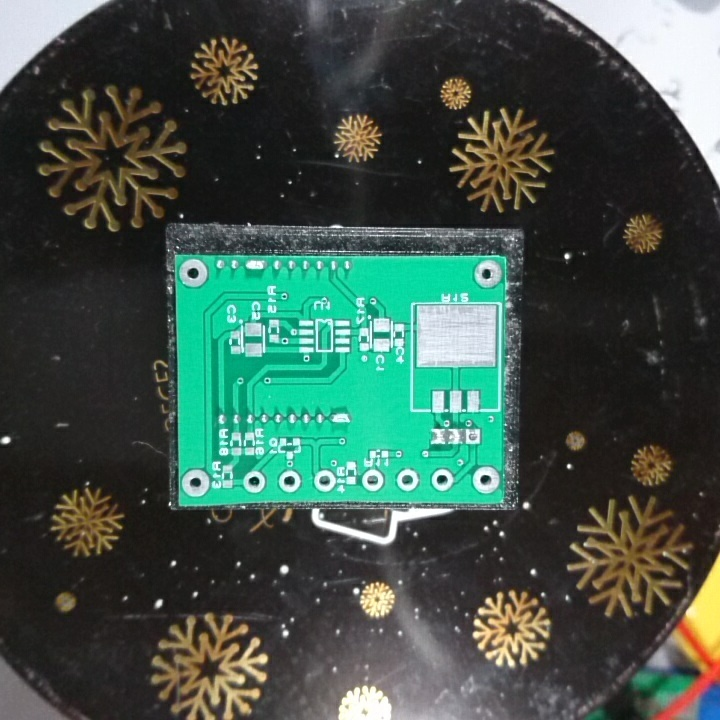F: (176, 255, 210, 292), (470, 258, 504, 292), (470, 464, 501, 499), (180, 469, 213, 500), (276, 469, 305, 497), (428, 467, 456, 495), (359, 467, 386, 494), (393, 468, 419, 495), (241, 468, 267, 493), (313, 468, 337, 495), (464, 426, 483, 448)
P: (327, 406, 353, 428), (242, 257, 268, 278)
